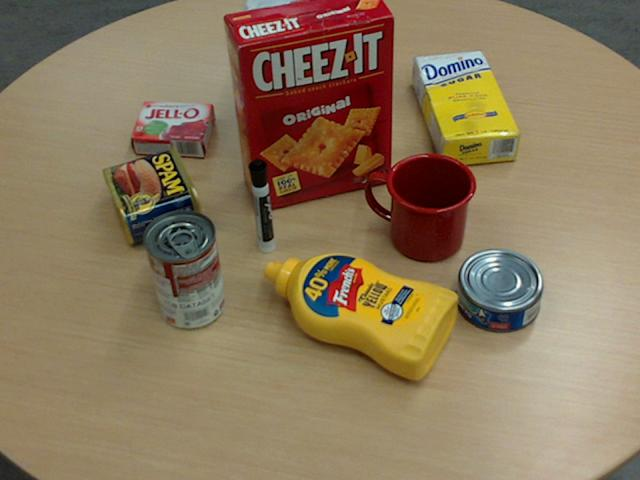cracker_box: (223, 0, 394, 210)
gelatin_box: (128, 99, 214, 156)
large_marker: (247, 159, 275, 254)
master_chef_can: (244, 0, 333, 126)
mug: (366, 152, 476, 260)
mustard_bottle: (263, 253, 457, 379)
potted_meat_can: (103, 144, 204, 243)
sugar_box: (412, 50, 521, 167)
tomato_soup_can: (141, 208, 223, 328)
tuna_fish_can: (456, 248, 544, 331)
